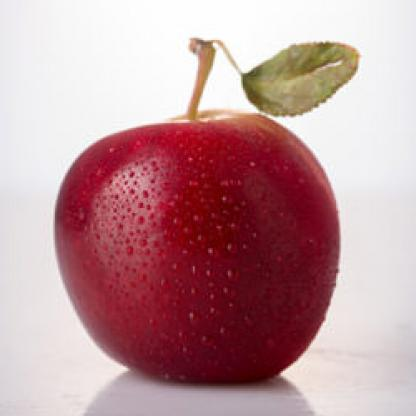apple: (52, 110, 346, 388)
